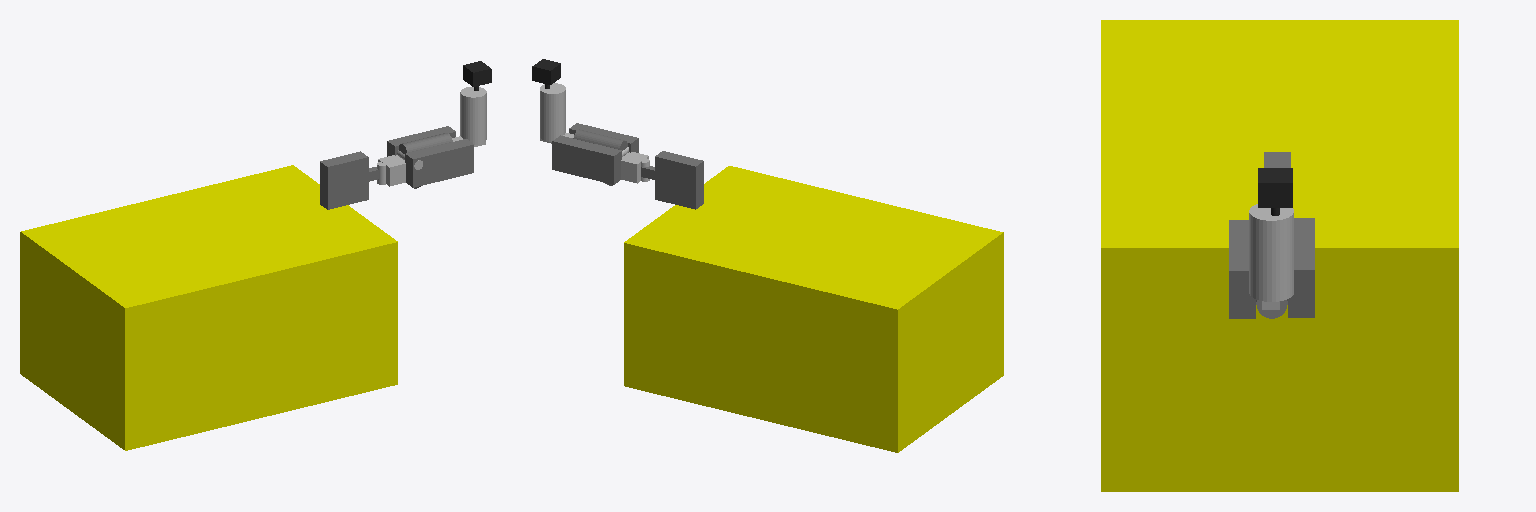
The robot description file, URDF, robot "girona500":
<?xml version="1.0"?>
<robot name="girona500">
  <!-- base link is the body of the robot -->
  <link name="base_link">
      <visual>
         <origin rpy="0.0 0 0.0" xyz="0.0 0 0.0"/>
         <geometry>
           <!-- <mesh filename="file://robot2/GIRONA500v2/g500.osg"/> -->
           <box size="1.20 0.8 0.6"/>
         </geometry>
         <material name="Yellow">
           <color rgba="0.9 0.9 0.0 1.0"/>
        </material>
       </visual>
   </link>

   <link name="base">
      <visual>
        <origin rpy="0 0 0" xyz="0.0 0 0.0"/>
         <geometry>
           <mesh filename="package://udg_pandora_sim/data2/robot2/NEW_PANDORA_ARM/bb_part1.stl" />
         </geometry>
         <material name="Grey">
           <color rgba="0.5 0.5 0.5 1.0"/>
        </material>
      </visual>
   </link>

   <joint name="baselink_to_base" type="fixed">
      <parent link="base_link"/>
      <child link="base"/>
      <axis xyz="0 0 1"/>
      <origin rpy="0 0 0" xyz="0.5 0.0 0.4"/>
   </joint>


  <link name="shoulder">
      <visual>
         <origin rpy="0 0 0" xyz="0.0 0.0 0.0"/>
         <geometry>
            <mesh filename="package://udg_pandora_sim/data2/robot2/NEW_PANDORA_ARM/bb_part2.stl" />
         </geometry>
         <material name="LightGrey">
           <color rgba="0.75 0.75 0.75 1.0"/>
        </material>
      </visual>
   </link>

   <joint name="base_to_shoulder" type="revolute">
      <parent link="base"/>
      <child link="shoulder"/>
      <axis xyz="0 0 1"/>
      <origin rpy="0 0 0" xyz="0.25 -0.02 0.0"/>
      <limit effort="30" lower="-0.21" upper="1.47" velocity="0.0547"/>
   </joint>


   <link name="biceps">
      <visual>
         <origin rpy="0 0 0" xyz="0.0 0 0.0"/>
         <geometry>
            <mesh filename="package://udg_pandora_sim/data2/robot2/NEW_PANDORA_ARM/bb_part3.stl" />
         </geometry>
         <material name="Grey">
           <color rgba="0.5 0.5 0.5 1.0"/>
        </material>
      </visual>
   </link>

   <joint name="shoulder_to_biceps" type="revolute">
      <parent link="shoulder"/>
      <child link="biceps"/>
      <axis xyz="0 1 0"/>
      <origin rpy="0 0 0" xyz="0.10 0.0 0.0"/>
      <limit effort="30" lower="-0.58" upper="1.606" velocity="0.08327"/>
   </joint>

  <link name="forearm">
      <visual>
         <origin rpy="0 0 0" xyz="0.0 0 0.0"/>
         <geometry>
            <mesh filename="package://udg_pandora_sim/data2/robot2/NEW_PANDORA_ARM/bb_part4.stl" />
         </geometry>
         <material name="LightGrey">
           <color rgba="0.75 0.75 0.75 1.0"/>
        </material>
      </visual>
   </link>

   <joint name="elbow" type="revolute">
      <parent link="biceps"/>
      <child link="forearm"/>
      <axis xyz="0 1 0"/>
      <origin rpy="0 -1.57 0" xyz="0.22 0.0 0.05"/>
      <limit effort="30" lower="-1.46" upper="0.78" velocity="0.0605"/>
   </joint>

  <link name="palm">
      <visual>
         <origin rpy="0 0 0" xyz="0.0 0 0.0"/>
         <geometry>
            <mesh filename="package://udg_pandora_sim/data2/robot2/NEW_PANDORA_ARM/bb_part5.stl" />
         </geometry>
         <material name="LightBlack">
           <color rgba="0.2 0.2 0.2 1.0"/>
        </material>
      </visual>
   </link>

   <joint name="wrist" type="continuous">
      <parent link="forearm"/>
      <child link="palm"/>
      <axis xyz="1 0 0"/>
      <origin rpy="0 0 0" xyz="0.2 0.01 -0.1"/>
      <limit effort="30" lower="-3.14" upper="3.12" velocity="1.5305"/>
   </joint>



  <link name="jaw">
    <visual>
      <origin rpy="0 0 0" xyz="0 0 0.0"/>
      <geometry>
        <mesh filename="package://udg_pandora_sim/data2/robot2/NEW_PANDORA_ARM/bb_jaw.stl"/>
      </geometry>
         <material name="LightBlack2">
           <color rgba="0.3 0.3 0.2 1.0"/>
        </material>
    </visual>
  </link>

  <joint name="palm_to_jawS" type="fixed">
    <parent link="palm"/>
    <child link="jaw"/>
    <axis xyz="0 0 1"/>
    <origin rpy="0 0 0.0" xyz="0.08 -0.03 0.0"/>
  </joint>

<!--
  <link name="jawI">
    <visual>
      <origin rpy="0 0 0" xyz="0 0 0"/>
      <geometry>
        <mesh filename="package://udg_pandora/data2/robot2/NEW_PANDORA_ARM/jawI.osg"/>
      </geometry>
    </visual>
  </link>

  <joint name="support_to_jaw2" type="continuous">
    <parent link="palm"/>
    <child link="jawI"/>
    <axis xyz="0 0 -1"/>
    <origin rpy="0 0 -0.5" xyz="0.08 -0.03 0.0"/>
    <mimic joint="palm_to_jawS" multiplier="1" offset="0"/>
  </joint>
-->

</robot>

--- What the picture shows (computed from the rendered views, not written in the file) ---
Views: 3 orthographic renders of the robot side by side, from view 1: azimuth 30°, elevation 25°; view 2: azimuth 150°, elevation 25°; view 3: azimuth 270°, elevation 25°.
Robot: girona500 — 7 links, 6 joints (3 revolute, 1 continuous, 2 fixed); root link base_link; default pose: every joint at zero.
Visible links, largest first — view 1: base_link, biceps, base, forearm, shoulder, palm; view 2: base_link, biceps, base, forearm, shoulder, palm; view 3: base_link, biceps, forearm, palm.
Link boxes in pixels (x1=…): base_link: x1=20, y1=165, x2=397, y2=450; biceps: x1=387, y1=126, x2=473, y2=188; base: x1=320, y1=151, x2=378, y2=209; forearm: x1=452, y1=87, x2=486, y2=146; shoulder: x1=377, y1=150, x2=422, y2=186; palm: x1=463, y1=61, x2=491, y2=90; base_link: x1=624, y1=166, x2=1003, y2=452; biceps: x1=552, y1=123, x2=638, y2=185; base: x1=641, y1=151, x2=703, y2=209; forearm: x1=540, y1=83, x2=573, y2=143; shoulder: x1=621, y1=147, x2=649, y2=183; palm: x1=532, y1=59, x2=560, y2=88; base_link: x1=1101, y1=20, x2=1458, y2=491; biceps: x1=1229, y1=218, x2=1314, y2=318; forearm: x1=1249, y1=204, x2=1293, y2=309; palm: x1=1258, y1=168, x2=1292, y2=215.
Bounding box of the posed robot: 1.81 × 0.8 × 1.04 m (x, y, z).
5 mesh visuals loaded from 6 distinct referenced files (5 binary STL); not drawn: 1 (reference not matched to a file when rendering).
